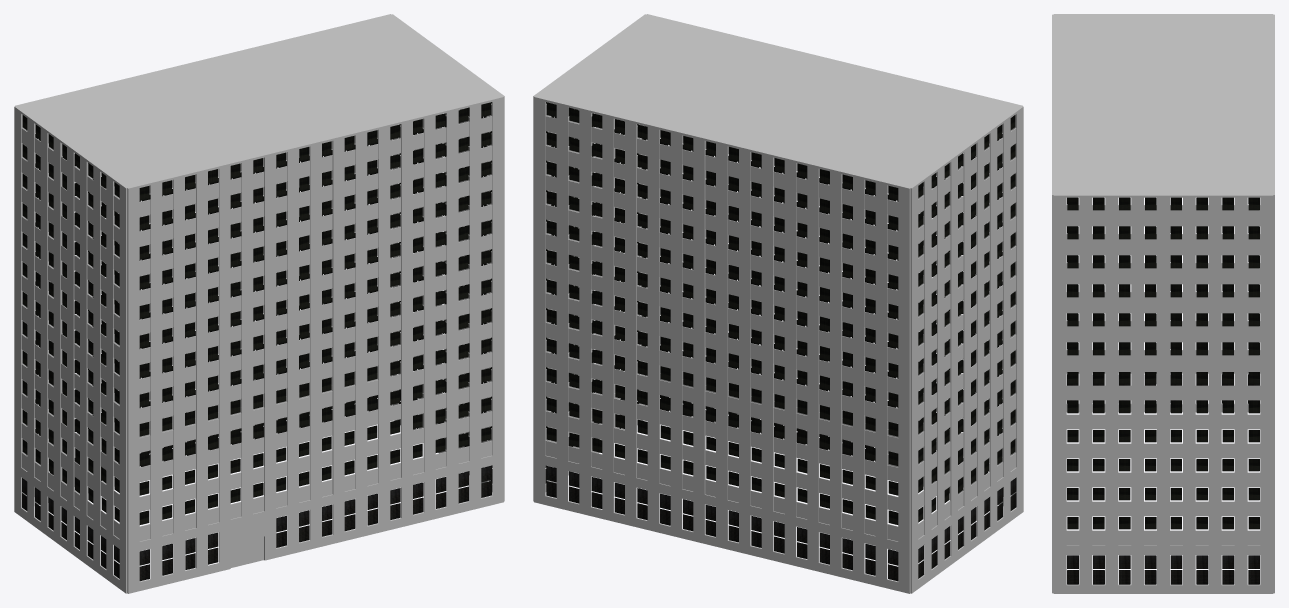
3 renders of one model, left to right at view 1: azimuth 30°, elevation 25°; view 2: azimuth 150°, elevation 25°; view 3: azimuth 270°, elevation 25°, orthographic.
Parts seen in each view (by area): view 1: BC-011; view 2: BC-011; view 3: BC-011.
Part boxes in pixels (box(x1,y1,x2,y2)): BC-011: box(14, 14, 504, 593); BC-011: box(533, 14, 1023, 593); BC-011: box(1052, 14, 1274, 593).
Size of what is drawn, in the model's own units: 40.28 by 41.21 by 20.88.
